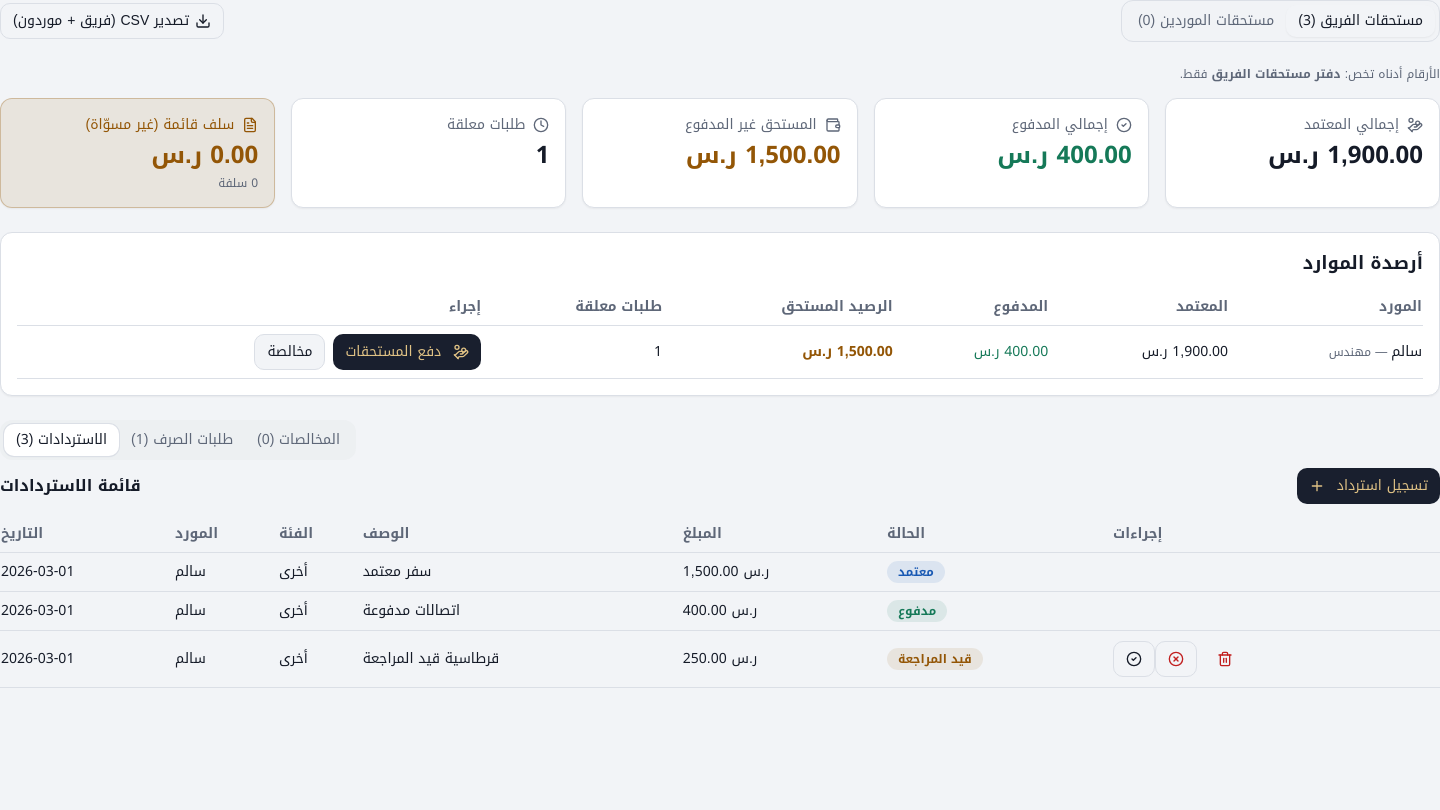
Test: the pay dialog › carries a scheduled request's date into the dialog
Later steps or results of the test are not shown.
Press the mouse on the tab "طلبات الصرف (1)" at x=182, y=440, box x1=119 y1=424 x2=245 y2=456
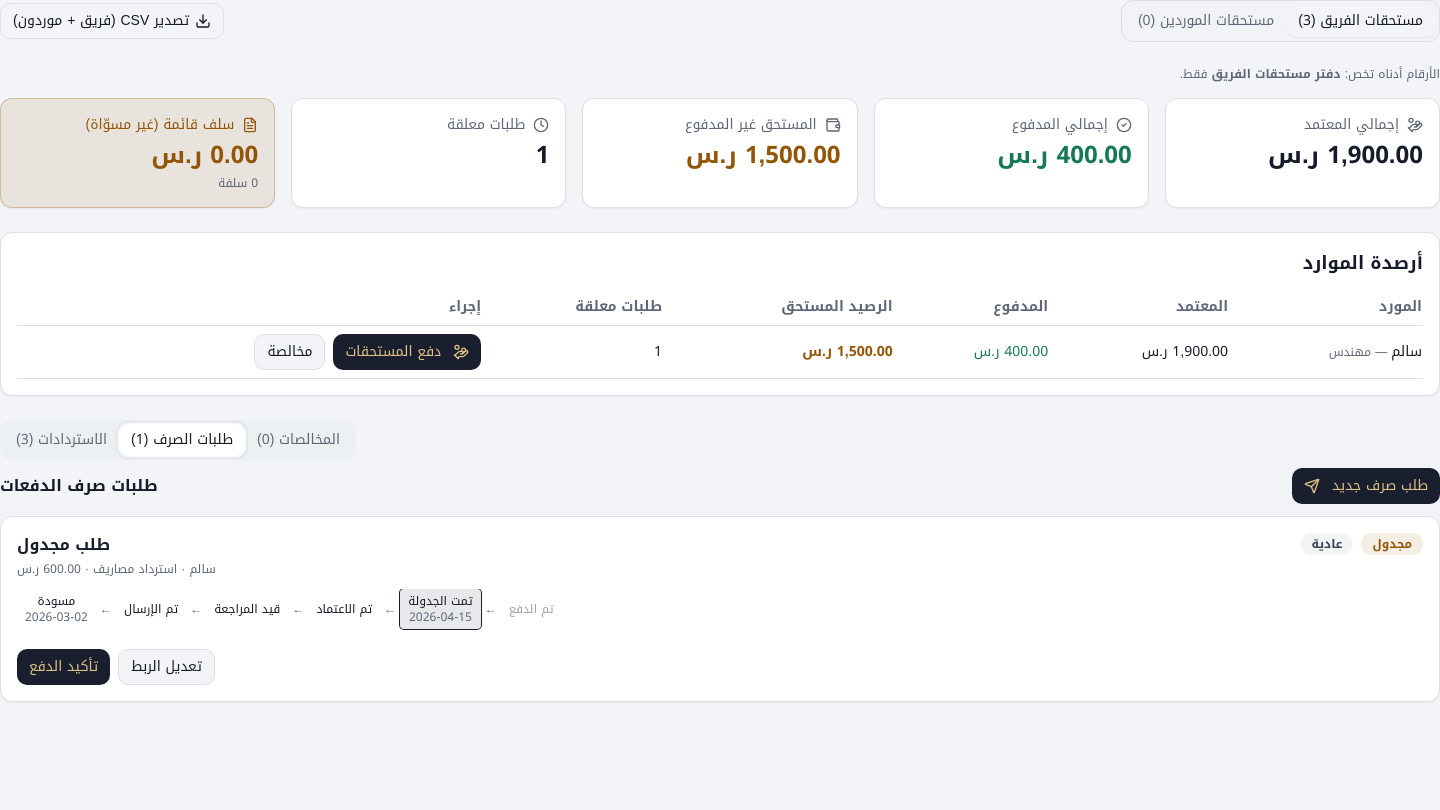
Click the tab "طلبات الصرف (1)".
click(182, 440)  # box x1=119 y1=424 x2=245 y2=456
Click the button "تأكيد الدفع".
click(64, 667)  # box x1=17 y1=649 x2=110 y2=685
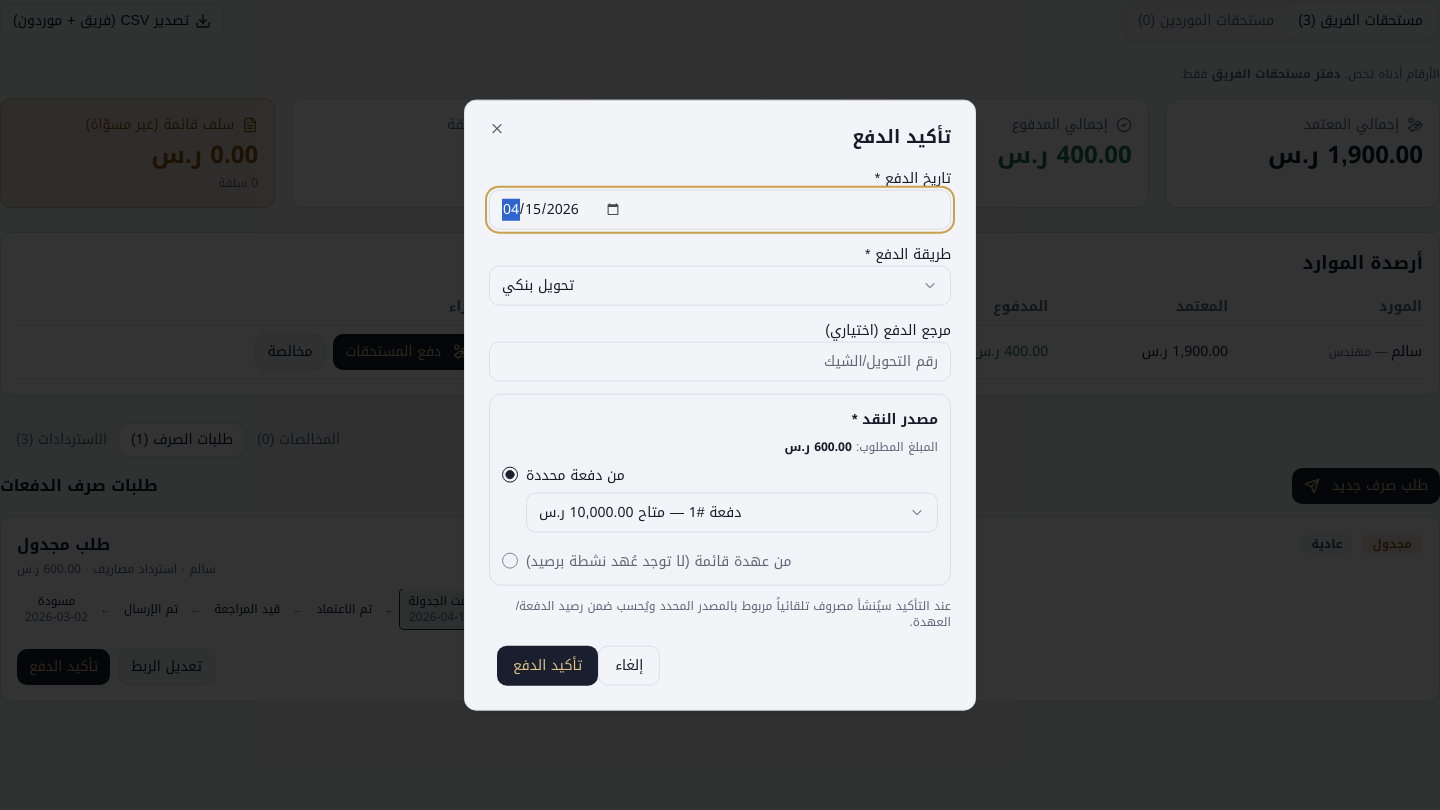
Expected: the date field labelled "تاريخ الدفع *" holds "2026-04-15", x1=489 y1=189 x2=951 y2=229
